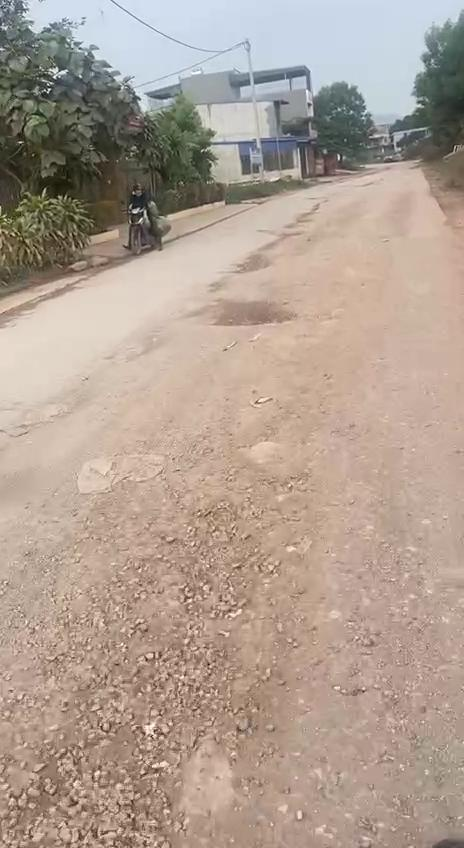pothole: (196, 300, 298, 330)
